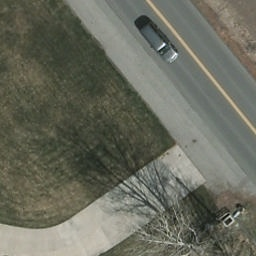car: (137, 21, 182, 64)
